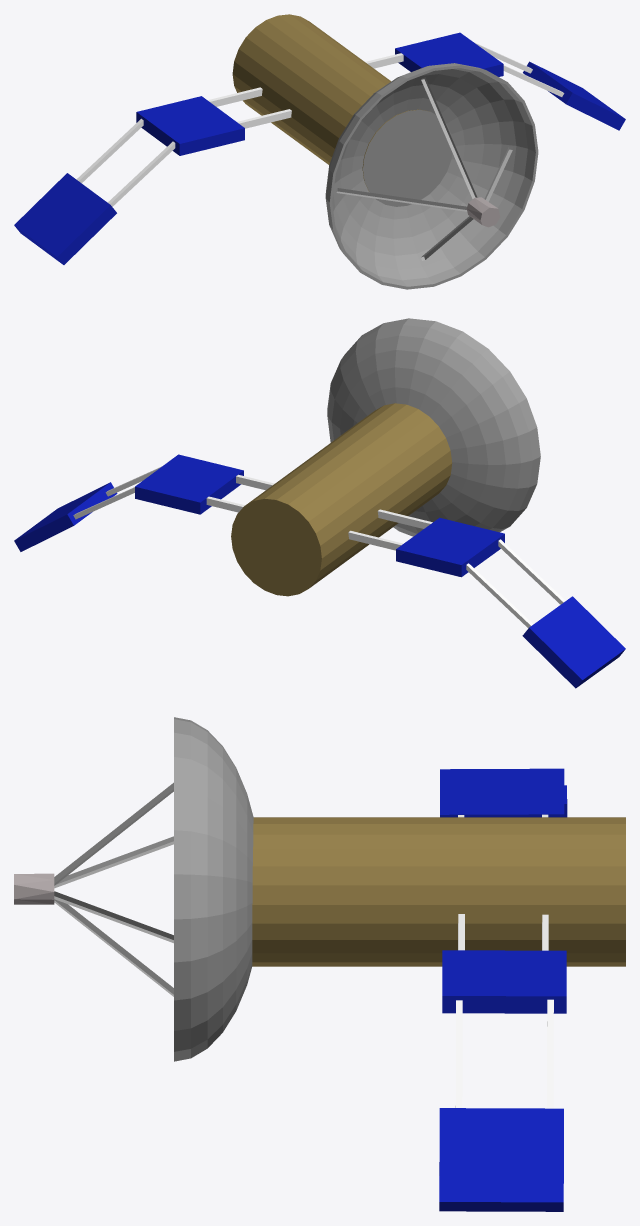
The model's file is satellite_high.gltf.
The picture shows the model from 3 angles, top to bottom: view 1: azimuth 30°, elevation 25°; view 2: azimuth 150°, elevation 25°; view 3: azimuth 270°, elevation 25°; orthographic projection. The views are drawn at different scales.
Visible parts, largest first — view 1: Sphere, Cylinder, Cylinder.000, Cylinder.002, Cylinder.005, Cube.003, Cube, Cylinder.001; view 2: Sphere, Cylinder, Cylinder.000, Cylinder.005; view 3: Cylinder, Sphere, Cylinder.005, Cylinder.000, Cylinder.001, Cube, Cube.002, Cube.001, Cube.003.
Boxes of the visible parts, <box> form: Sphere: <box>325,63,538,289</box>; Cylinder: <box>232,14,429,190</box>; Cylinder.000: <box>14,87,291,264</box>; Cylinder.002: <box>363,109,452,206</box>; Cylinder.005: <box>365,32,625,130</box>; Cube.003: <box>336,188,467,211</box>; Cube: <box>421,77,477,198</box>; Cylinder.001: <box>466,197,500,227</box>; Sphere: <box>327,318,540,536</box>; Cylinder: <box>231,403,452,596</box>; Cylinder.000: <box>348,509,625,688</box>; Cylinder.005: <box>14,454,274,551</box>; Cylinder: <box>252,817,625,966</box>; Sphere: <box>174,717,253,1061</box>; Cylinder.005: <box>439,914,566,1211</box>; Cylinder.000: <box>440,768,567,817</box>; Cylinder.001: <box>14,873,54,904</box>; Cube: <box>54,782,173,885</box>; Cube.002: <box>54,899,173,996</box>; Cube.001: <box>54,891,173,943</box>; Cube.003: <box>54,836,173,888</box>.
Size of the model in its own units: 22.82 by 8.4 by 14.86.
